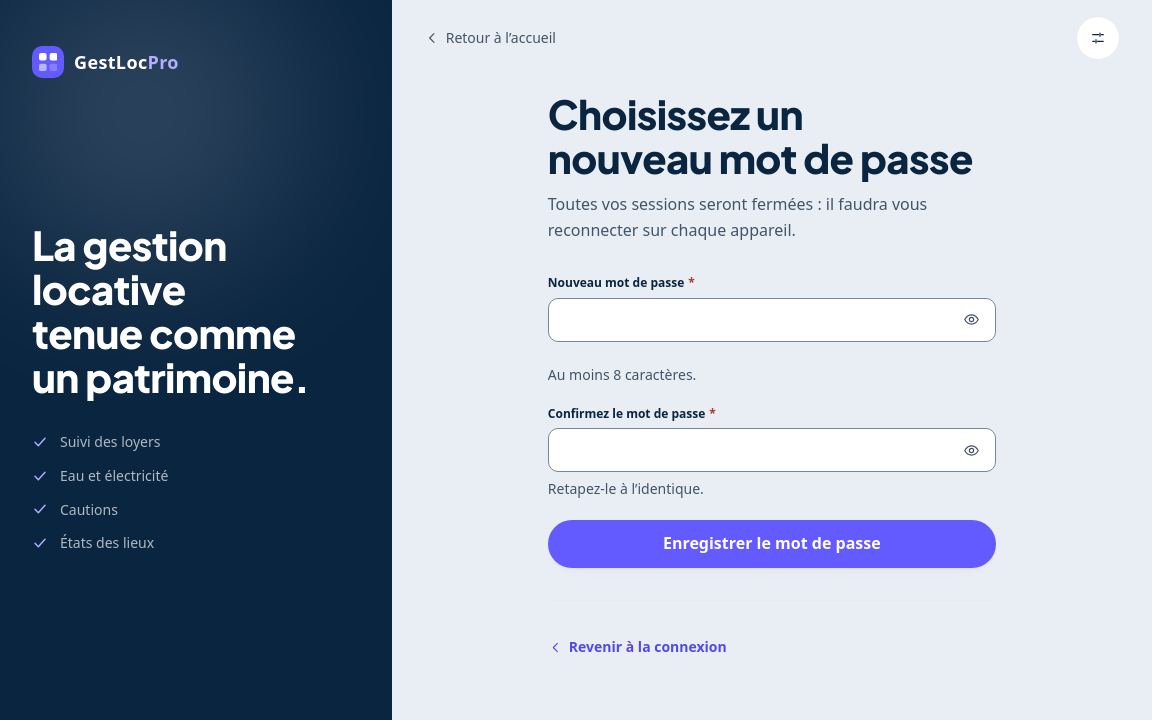
Test: ce que le serveur décide › bascule sur « lien expiré » quand le serveur refuse le jeton
In the password field labelled "Nouveau mot de passe*": (772, 320) [548, 298, 996, 342], type "Bonamoussadi2026!"
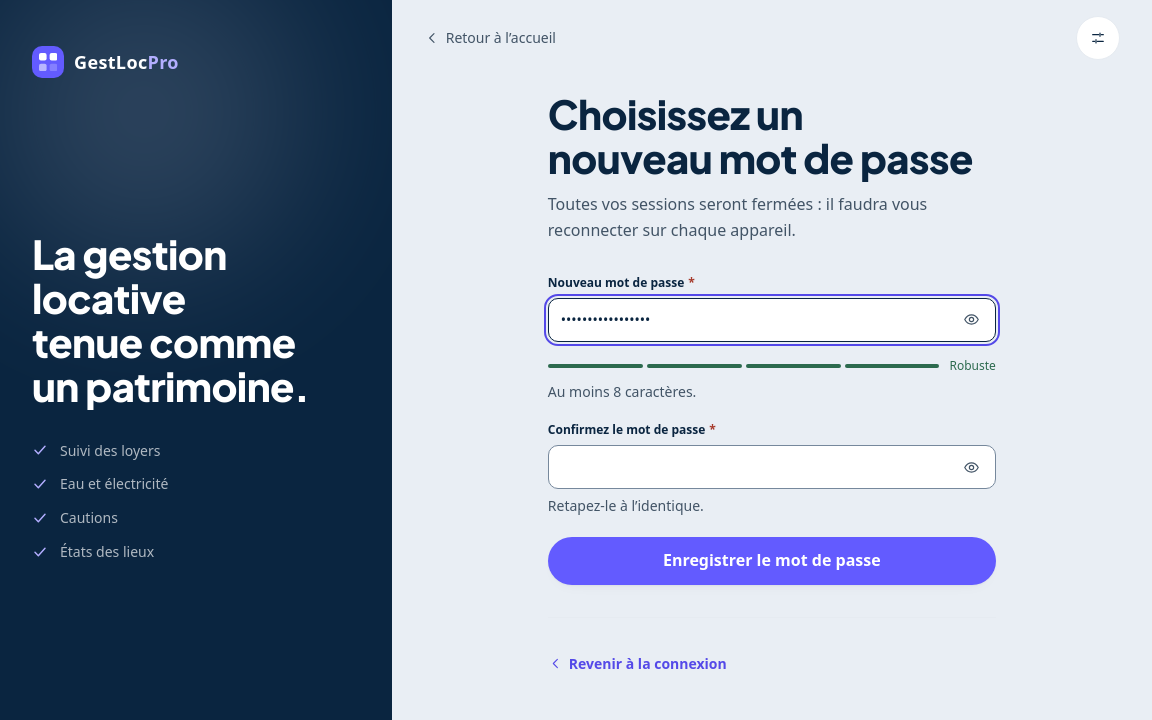
In the password field labelled "Confirmez le mot de passe*": (772, 467) [548, 445, 996, 489], type "Bonamoussadi2026!"
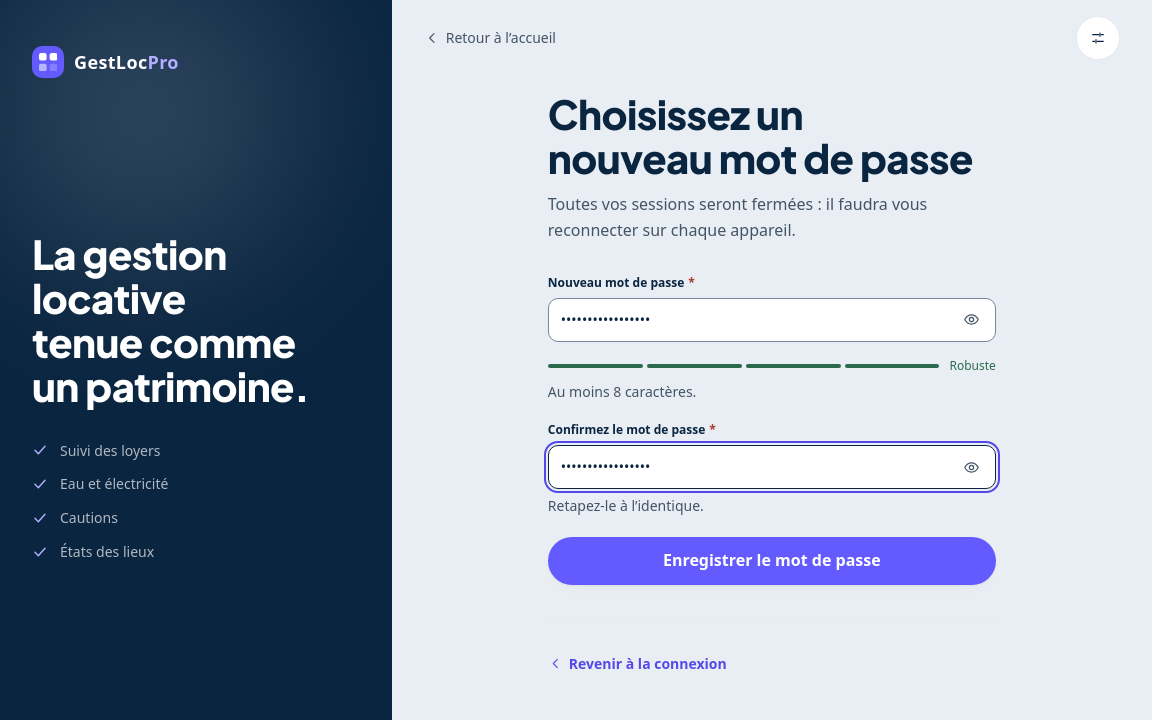
Click the button "Enregistrer le mot de passe": (772, 561) [548, 537, 996, 585]
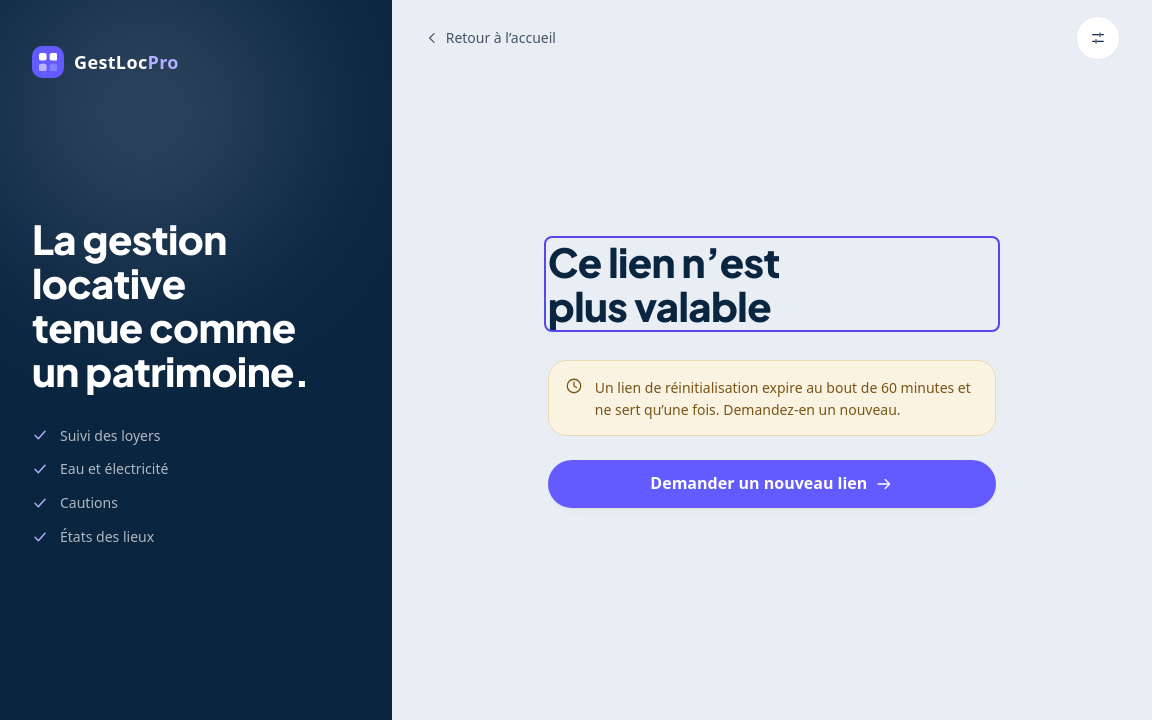
Now the heading "Ce lien n’est plus valable" is shown, box [548, 236, 780, 331]
Now the link "Demander un nouveau lien" is shown, box [548, 460, 996, 508]
